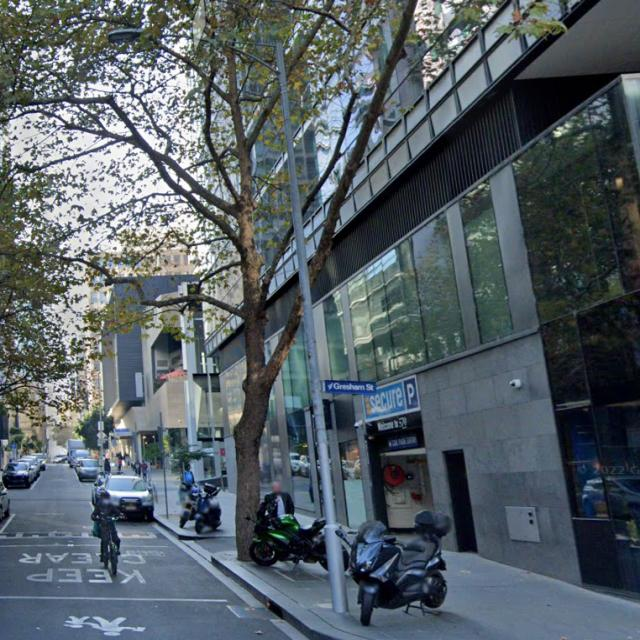steel-pole: (273, 38, 351, 614)
streetlight: (105, 27, 280, 74)
